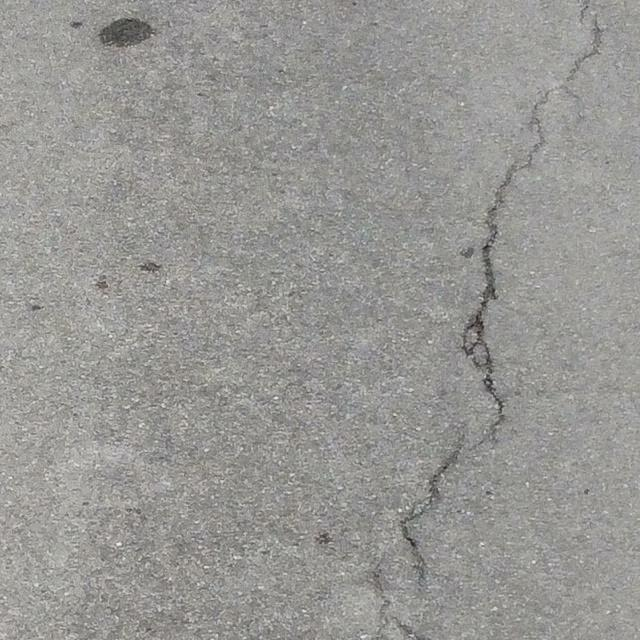LongitudinalCrack: (405, 1, 603, 583)
